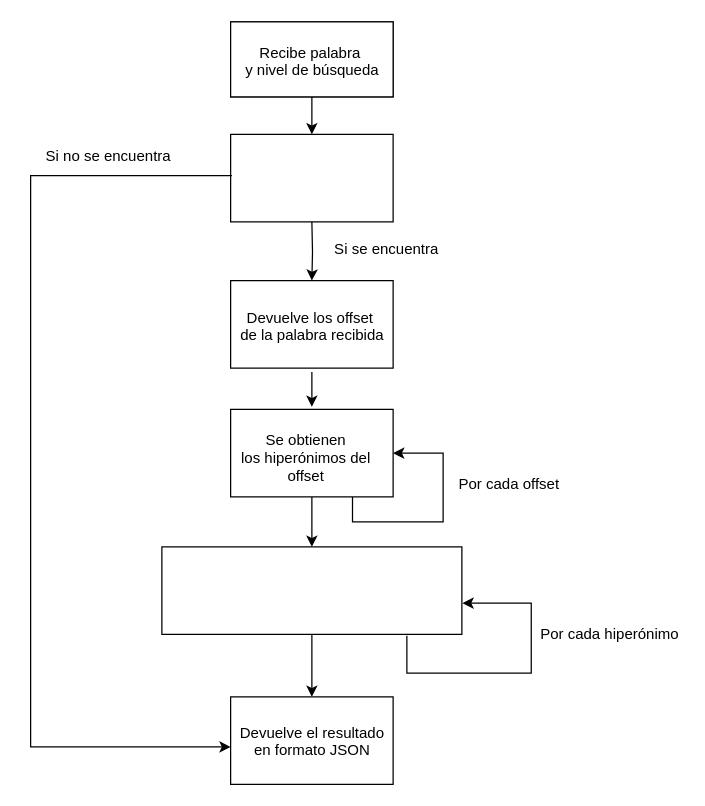
This 705x806 diagram has some shape labels left out. Here are the shapes that lost their labels. From the top down, the box of each, then its label:
(229, 133, 393, 222): Se comprueba en la base de datos que esté la palabra
(161, 546, 462, 634): Según el nivel de búsqueda, se busca si el hipónimo está en las palabras fáciles
